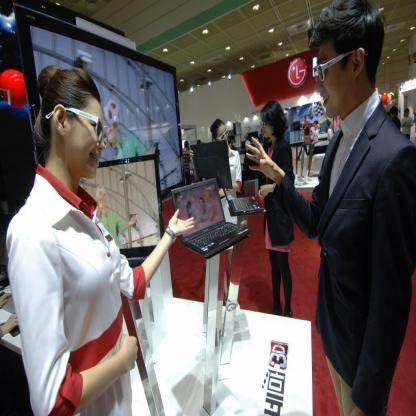board: (173, 183, 249, 258), (217, 170, 264, 216)
